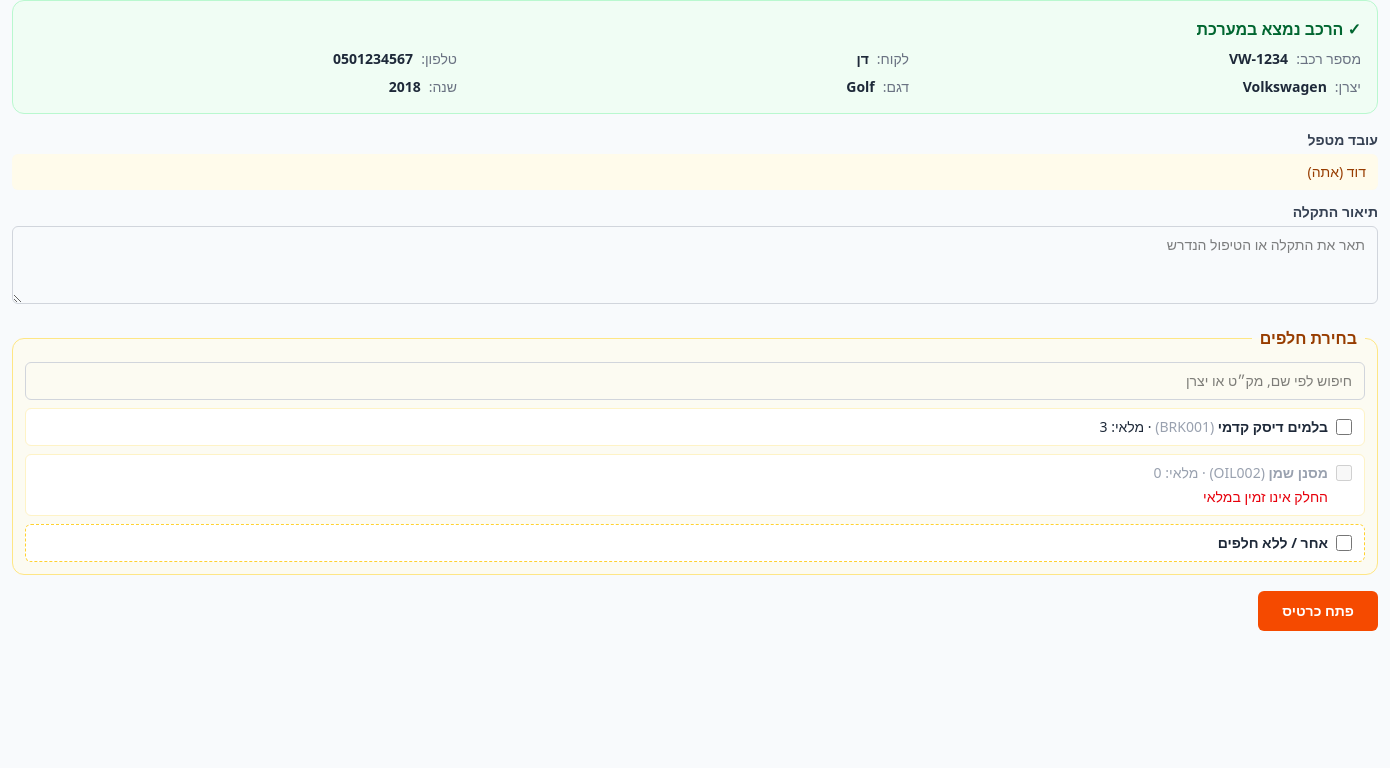
Scenario: PartsSelection — local search over loaded compatible parts › filters the parts by Hebrew text
Check: the checkbox labelled "בלמים דיסק קדמי" is shown, box [1336, 419, 1352, 435]
Type "מסנן" into the search field named "חיפוש חלפים".
click(695, 381); type("מסנן")  # box [25, 362, 1365, 400]
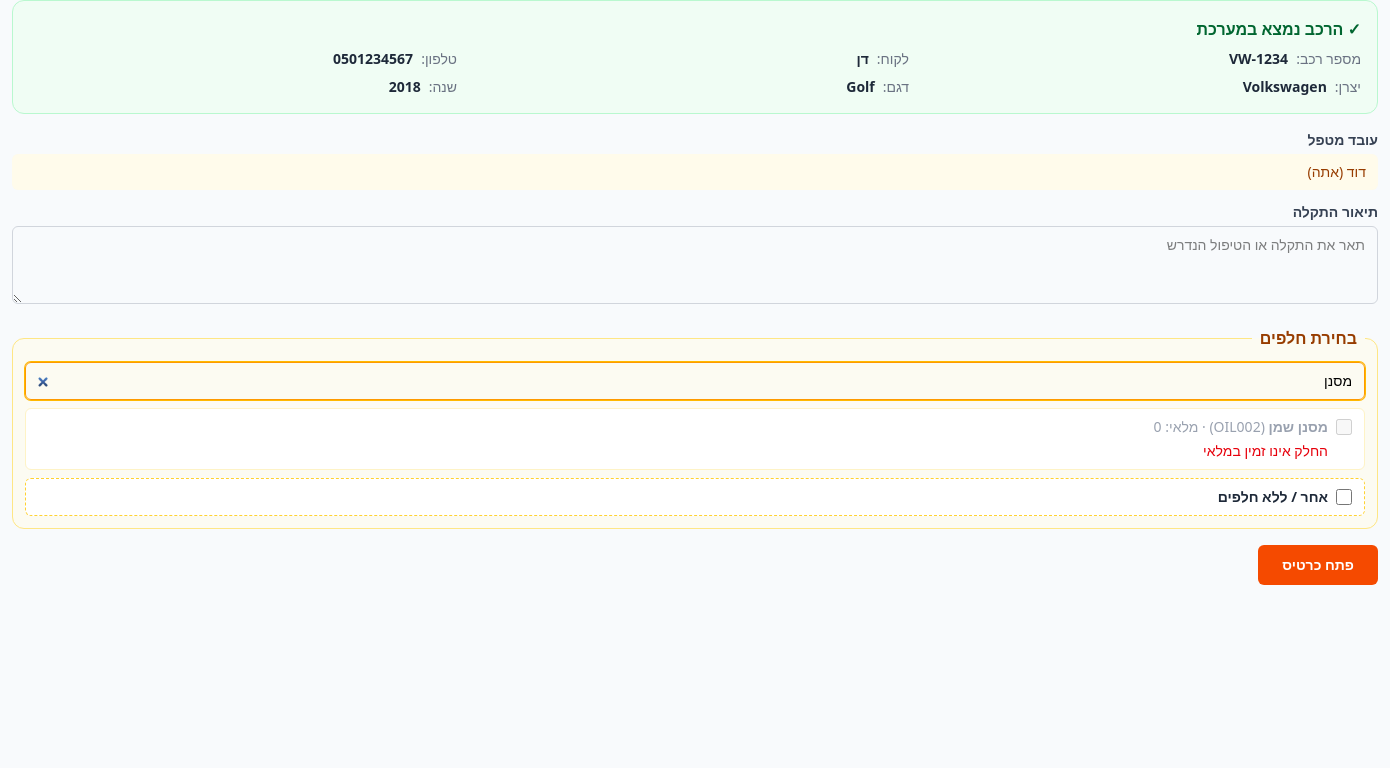
Check: the checkbox labelled "מסנן שמן" is shown, box [1336, 419, 1352, 435]
Check: the text labelled "בלמים דיסק קדמי" is gone
